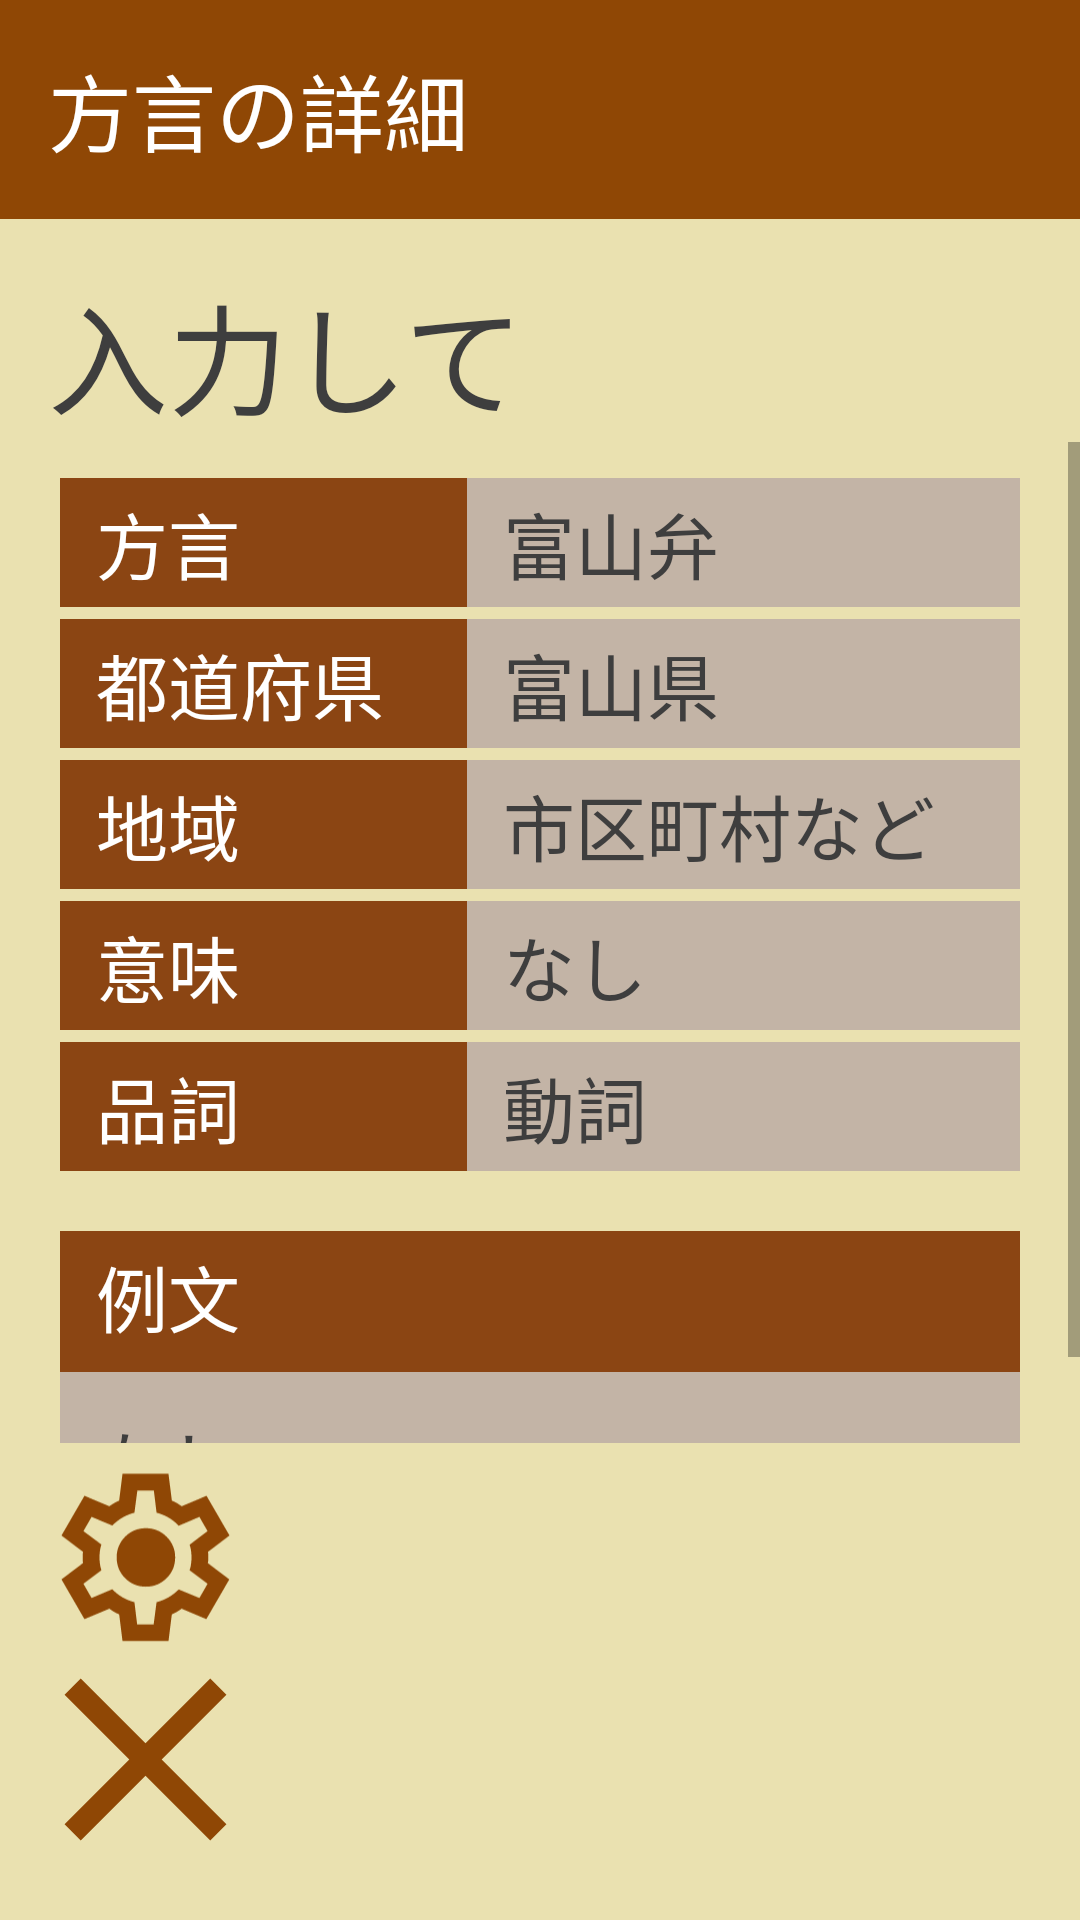

Screen size 1080×1920. Icon name, then its center in pixels as (x=x, y=y):
close: (x=145, y=1759)
settings: (x=145, y=1557)
